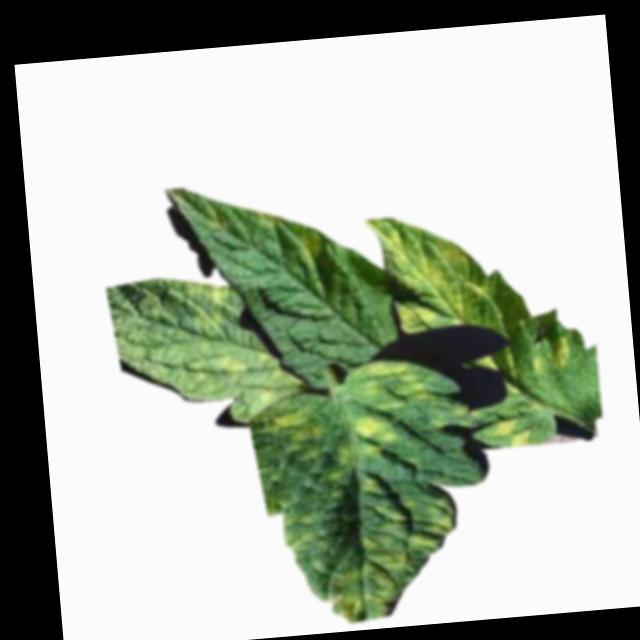Leaf_Mold: (317, 466, 466, 623), (368, 209, 508, 339), (169, 340, 302, 421), (344, 355, 435, 418), (175, 277, 235, 338), (331, 415, 397, 467), (271, 401, 324, 450), (526, 335, 574, 380), (286, 222, 322, 271), (488, 415, 534, 450), (248, 207, 280, 232)
